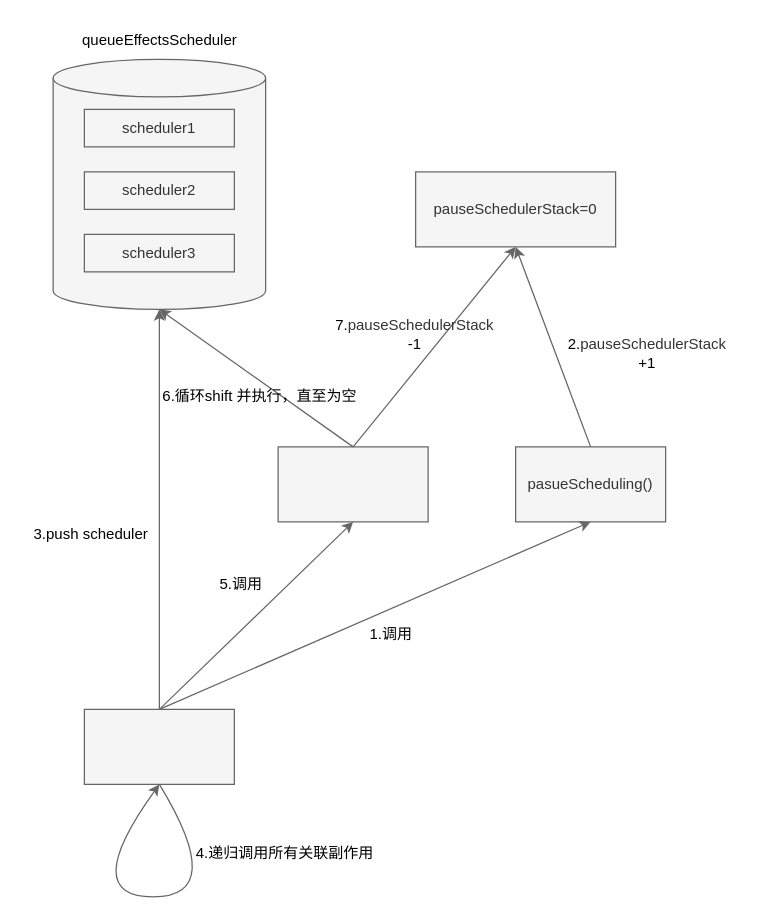
The diagram is 761 pixels wide and 919 high, and some of its shapes have lost their labels. Each missing label, with the centre of its shape:
resetScheduling(): point 352,484
triggerEffects(): point 158,746
